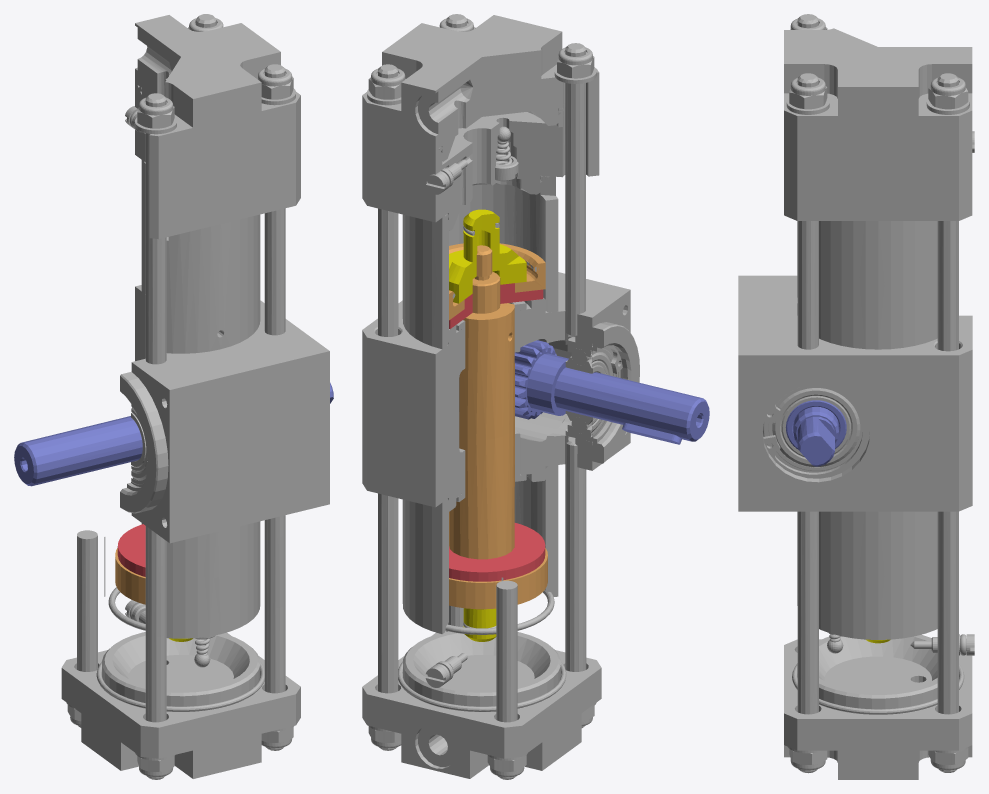
Rendered from arbre-couleur.glb.
3 views of the same model, side by side, from view 1: azimuth 30°, elevation 25°; view 2: azimuth 150°, elevation 25°; view 3: azimuth 270°, elevation 25° (orthographic).
Bounding box in the file's own units: 0.00353 × 0.00761 × 0.00235.
